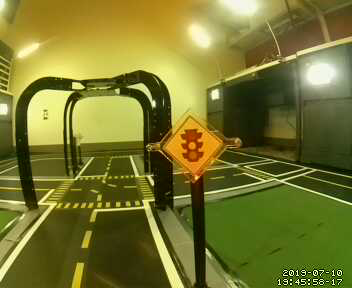Traffic light sign: (161, 114, 223, 176)
